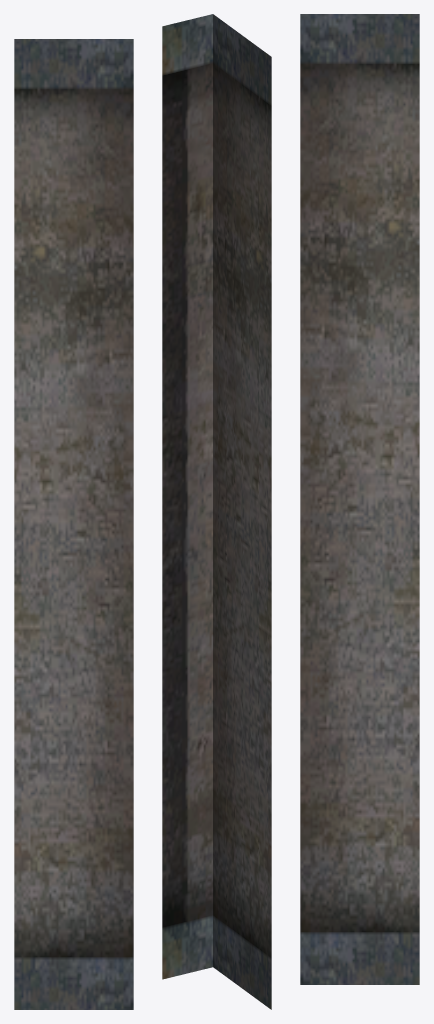
Rendered from M11B_Z2_Corner01.glb.
The picture shows the model from 3 angles, left to right: view 1: azimuth 90°, elevation 25°; view 2: azimuth 210°, elevation 25°; view 3: azimuth 270°, elevation 25°; orthographic projection.
Parts seen in each view (by area): view 1: M11B_Z2_CORNER01; view 2: M11B_Z2_CORNER01; view 3: M11B_Z2_CORNER01.
Part boxes in pixels (<box>): M11B_Z2_CORNER01: <box>14,39,133,1009</box>; M11B_Z2_CORNER01: <box>162,14,271,1009</box>; M11B_Z2_CORNER01: <box>300,14,419,984</box>.
Bounding box in the file's own units: 0.5 × 9 × 1.
Materials: 1 (1 with a texture image).
